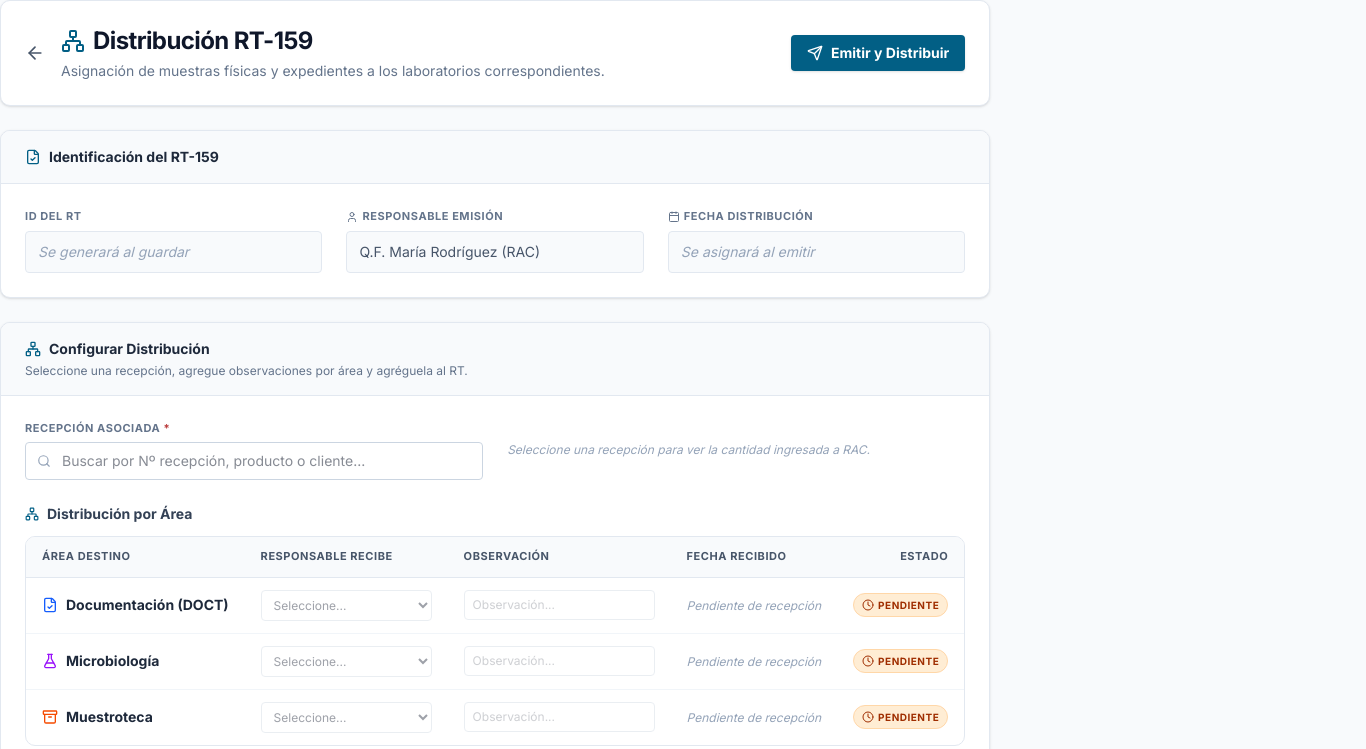
Test: DistribucionPage — /rac/distribucion › Autocomplete de recepción › botón X limpia la selección
Type "LEF-2024-00143" into the field with test id "recepcion-search". click: (254, 461)
box: left=25, top=442, right=483, bottom=480
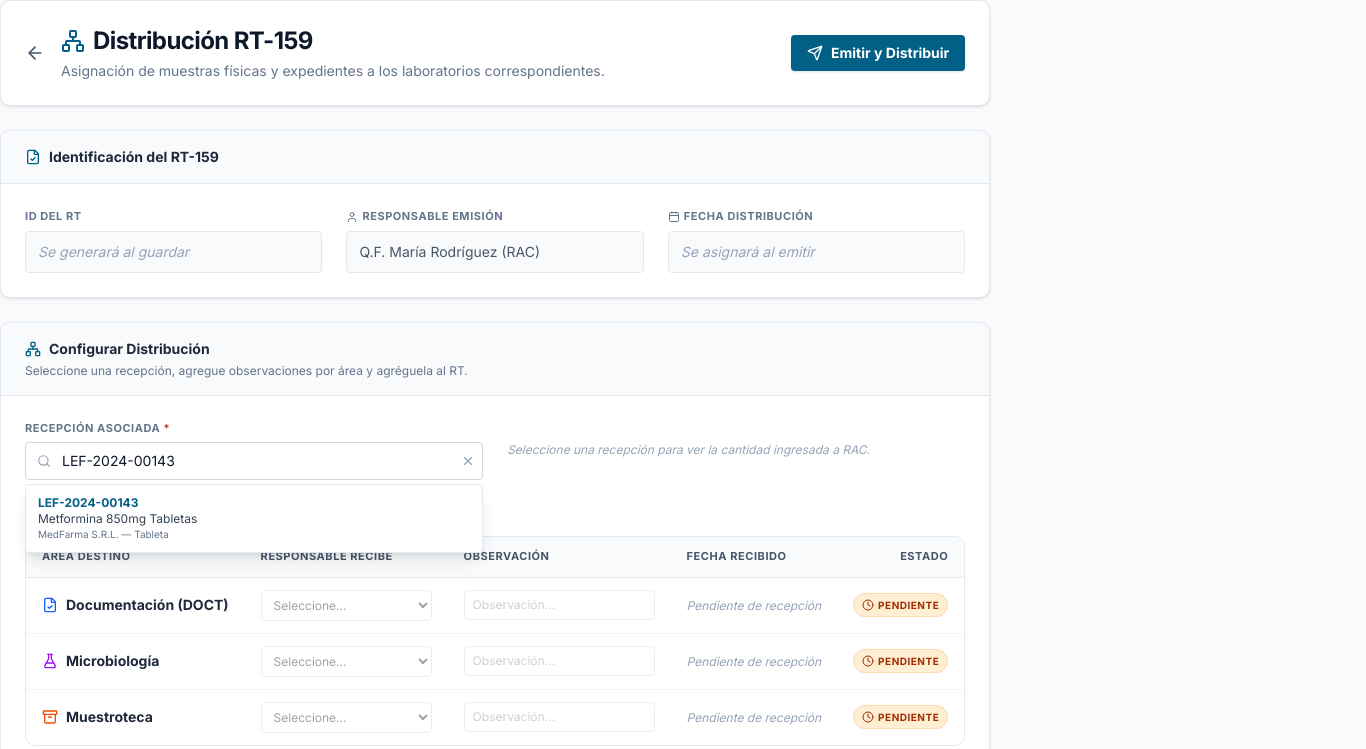
Click the button with test id "recepcion-option". click: (88, 502)
box: left=26, top=485, right=482, bottom=552
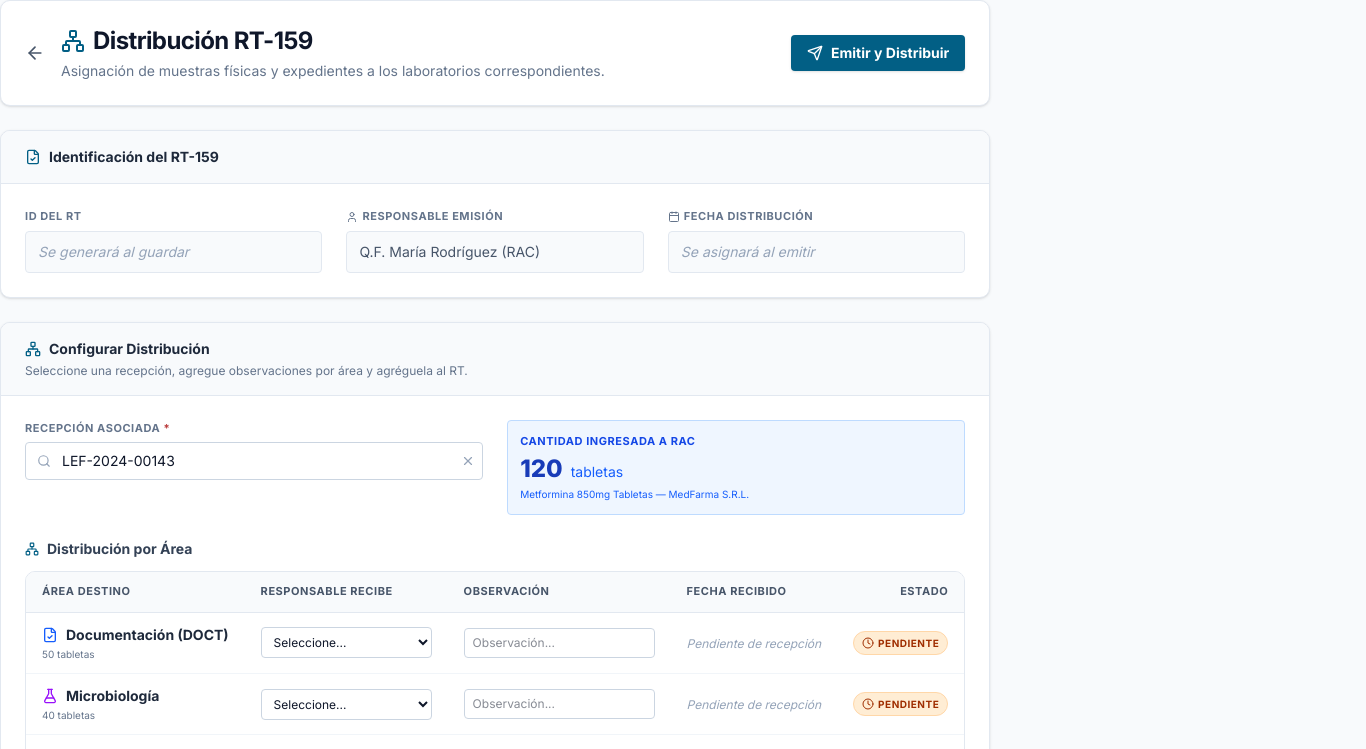
Click the button with test id "clear-recepcion". click: (468, 461)
box: left=461, top=454, right=475, bottom=468
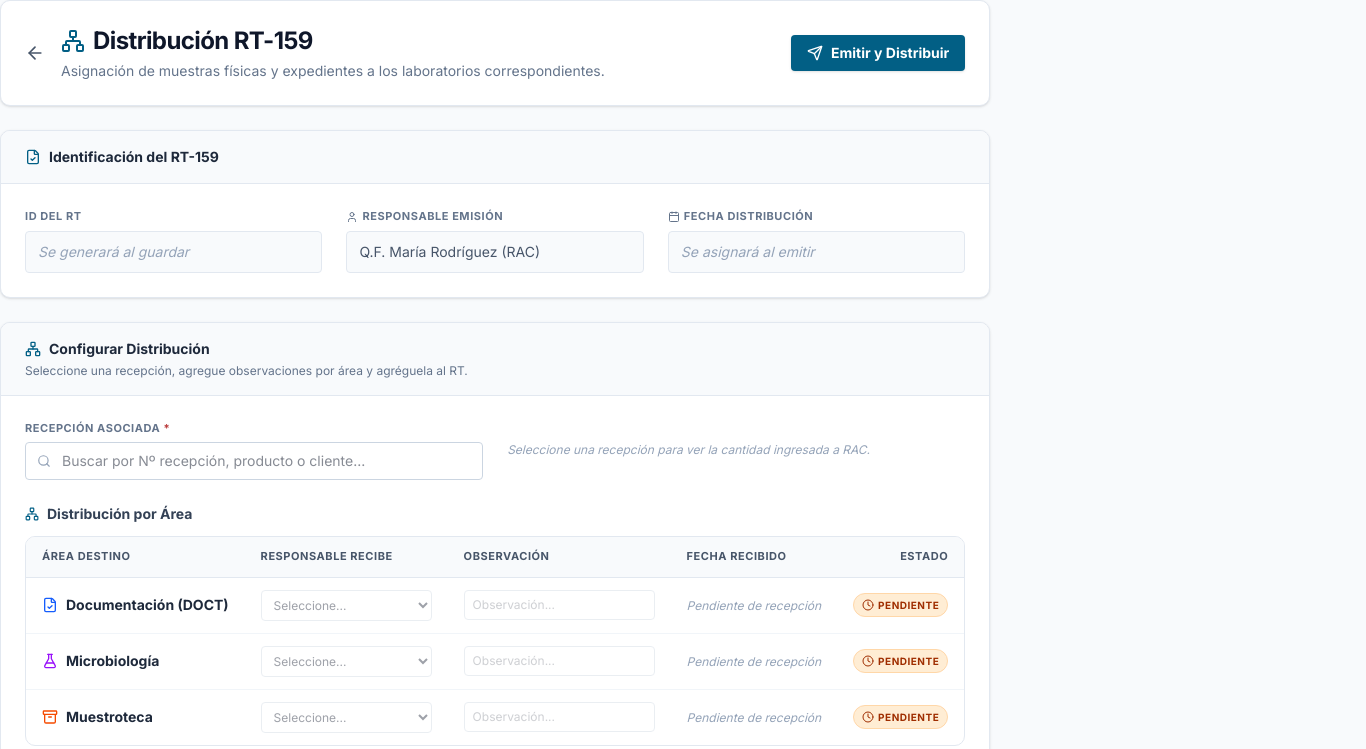
Now the field with test id "recepcion-search" is empty, box left=25, top=442, right=483, bottom=480
